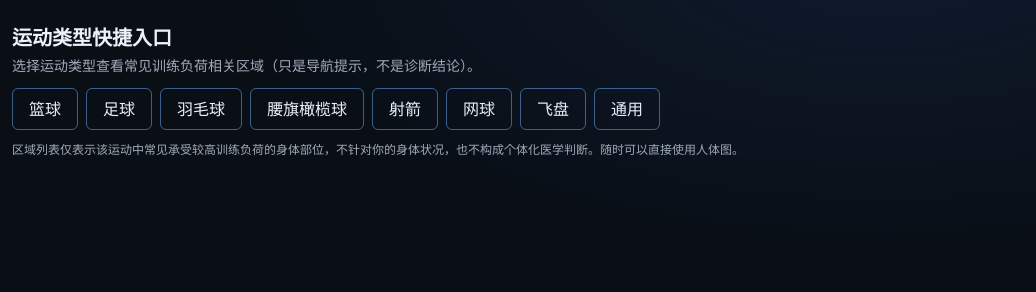
Test: SportQuickEntry component (S21 acceptance) › works without callbacks (graceful degradation)
Click the button "射箭". click: (405, 109)
box: [372,88,438,130]
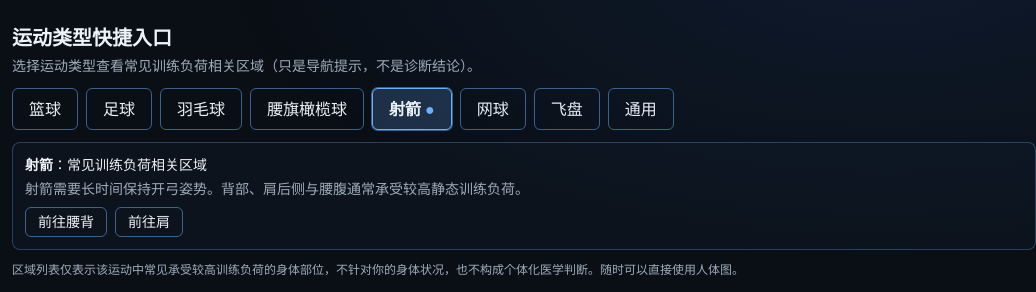
Expected: the text "射箭需要长时间保持开弓姿势。背部、肩后侧与腰腹通常承受较高静态训练负荷。" is shown, [25,179,529,198]
Expected: the button "前往腰背" is shown, [25,207,107,237]
